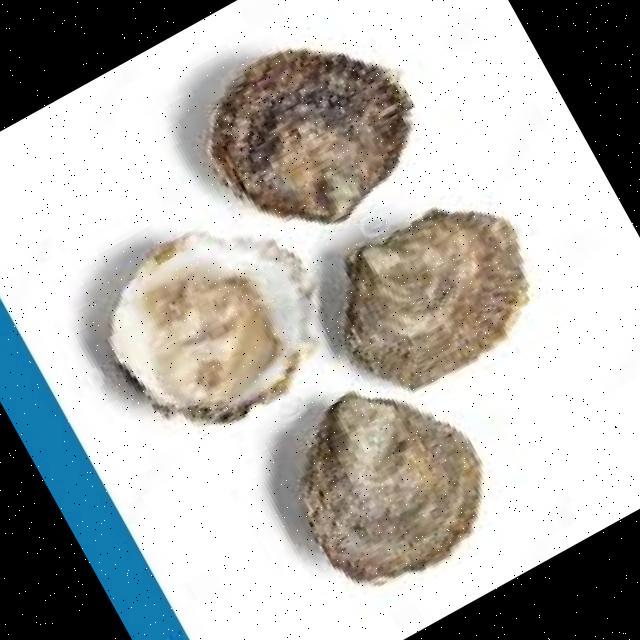Oyster-Closed: (210, 50, 412, 222), (301, 392, 481, 581), (345, 210, 528, 388)
Oyster-Open: (102, 232, 318, 422)
